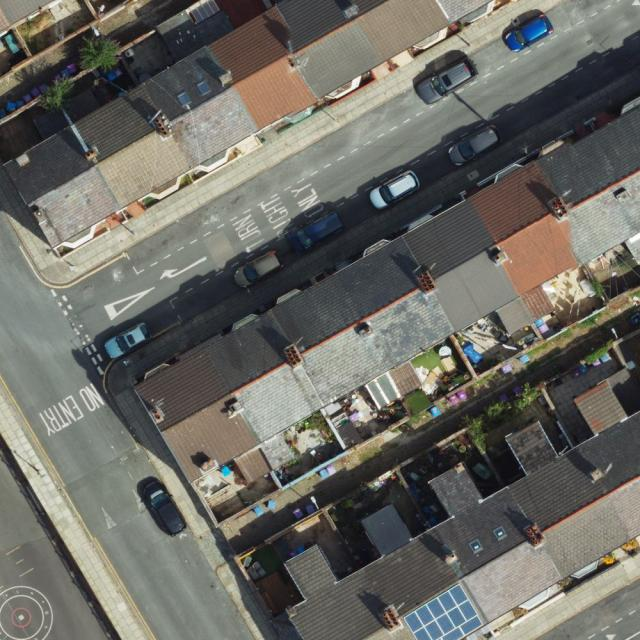roof: (131, 107, 640, 485), (2, 0, 498, 249), (285, 379, 640, 640), (0, 0, 62, 35)
skylight: (195, 77, 214, 98), (176, 88, 194, 109), (490, 523, 509, 542), (467, 535, 485, 554)
solar: (403, 582, 484, 640)
